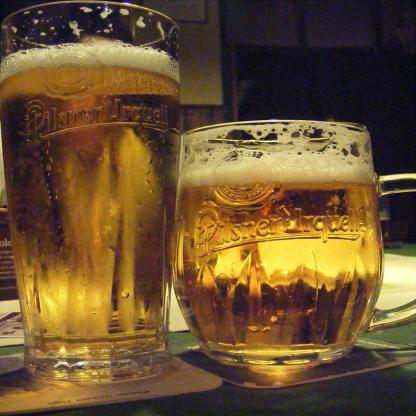drinking: (0, 0, 182, 382), (171, 120, 416, 370)
